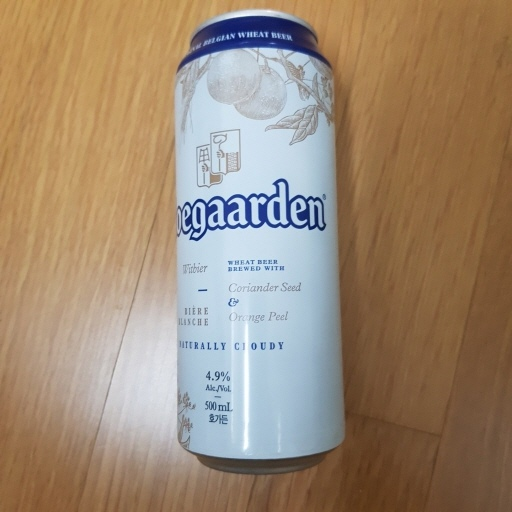Metal_0: (165, 10, 350, 477)
